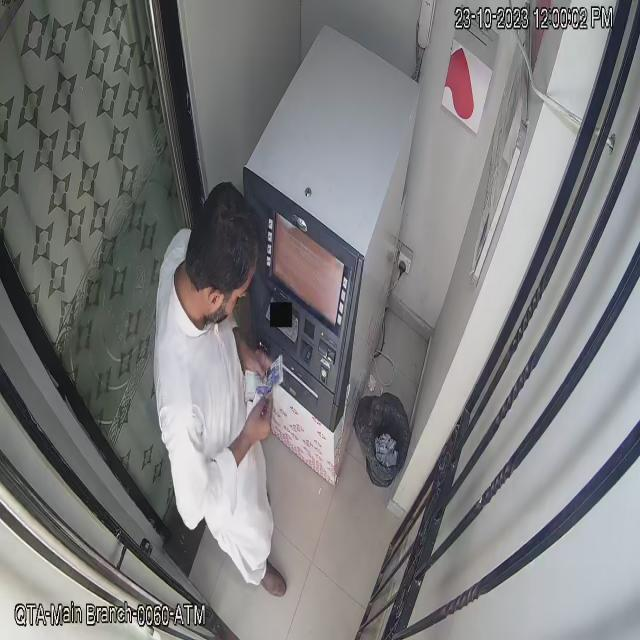note: (242, 347, 289, 410)
